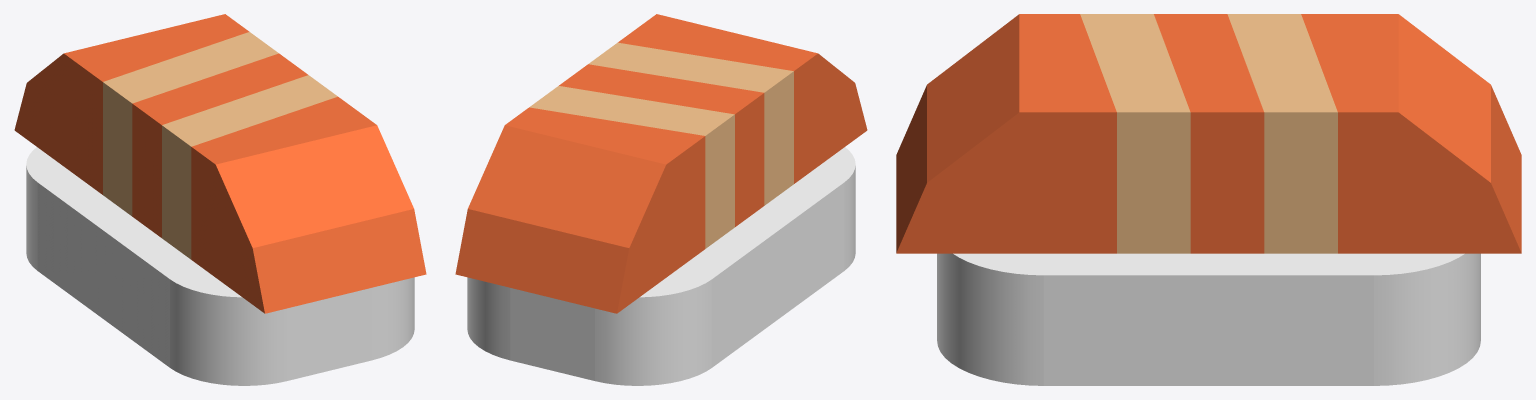
File: sushiSalmon.dae
3 renders of one model, left to right at view 1: azimuth 30°, elevation 25°; view 2: azimuth 150°, elevation 25°; view 3: azimuth 270°, elevation 25°, orthographic. The views are drawn at different scales.
Parts seen in each view (by area): view 1: salmon, sushiSalmon; view 2: salmon, sushiSalmon; view 3: salmon, sushiSalmon.
Boxes of the visible parts, x1,y1,x2,y2 form: salmon: (14, 14, 426, 313); sushiSalmon: (26, 147, 414, 385); salmon: (455, 14, 867, 313); sushiSalmon: (467, 147, 855, 385); salmon: (896, 14, 1521, 253); sushiSalmon: (937, 253, 1480, 385).
Bounding box in the file's own units: 0.1079 × 0.0892 × 0.2008.
